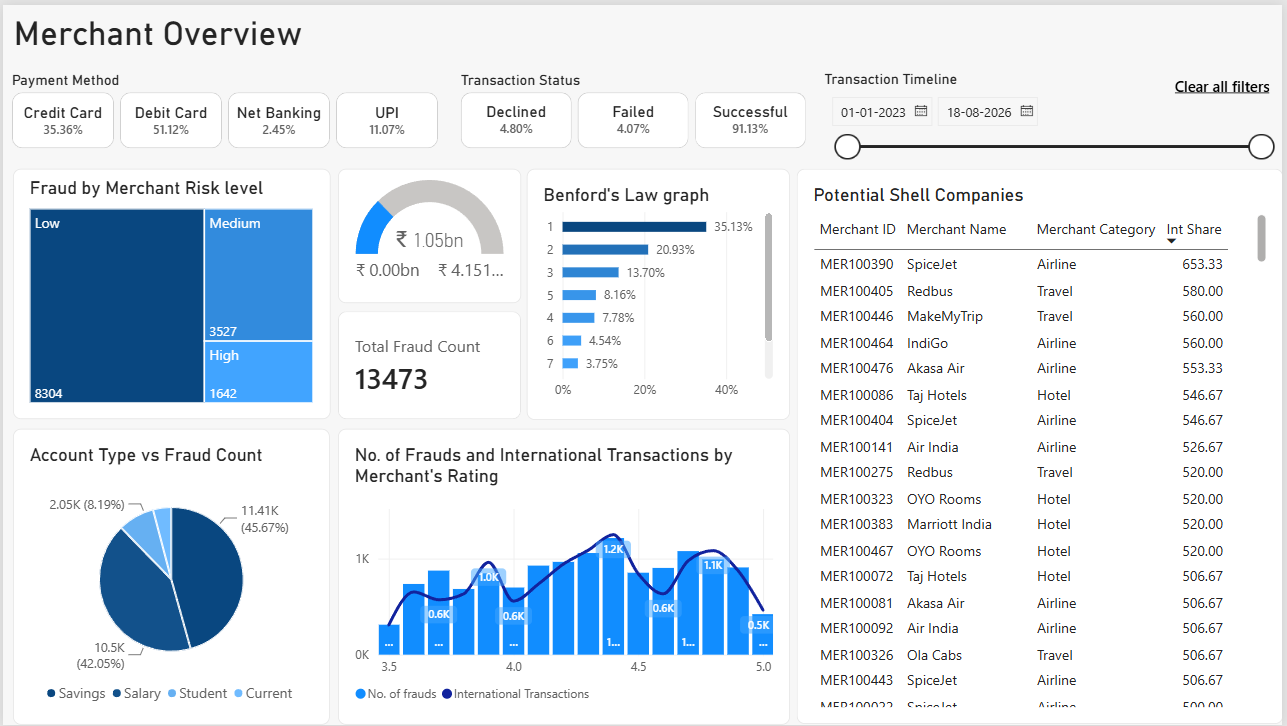

This screenshot's page, from the dashboard's own definition file:
{"tool":"powerbi","page":{"name":"Merchant","canvas":[1280,720],"ordinal":1},"visuals":[{"type":"textbox","box":[0,8.6,310.5,48.1],"z":0},{"type":"advancedSlicerVisual","title":"Payment Method","fields":{"Label":["Min(Transactions.Payment_Method)"],"Values":["Transactions.Payment_Method"]},"box":[4.9,62.8,436.2,85],"z":1000},{"type":"slicer","title":"Transaction Timeline","fields":{"Values":["Transactions.Transaction_Date"]},"box":[820.6,62.8,453.4,107.2],"z":2000},{"type":"actionButton","box":[1157,56.7,123.2,50.5],"z":3000},{"type":"advancedSlicerVisual","title":"Transaction Status","fields":{"Label":["Min(Transactions.Transaction_Status)"],"Values":["Transactions.Transaction_Status"]},"box":[453.4,62.8,354.9,85],"z":4000},{"type":"treemap","title":"Fraud by Merchant Risk level ","fields":{"Group":["merchant_table.Merchant_Risk_Level"],"Values":["Sum(Transactions.Fraud_Flag)"]},"box":[10,164.3,317.2,250.8],"z":5000},{"type":"tableEx","title":"Potential Shell Companies","fields":{"Values":["Transactions.Merchant_ID","merchant_table.Merchant_Name","Transactions.Merchant_Category","Transactions.International vs Average Share"]},"box":[793.7,164.3,486.5,555.5],"z":6000},{"type":"lineStackedColumnComboChart","title":"No. of Frauds and International Transactions by Merchant''s Rating","fields":{"Category":["merchant_table.Merchant_Rating"],"Y":["Sum(Transactions.Fraud_Flag)"],"Y2":["Sum(Transactions.Is_International)"]},"box":[335.2,423.9,452.2,295.7],"z":7000},{"type":"gauge","title":"Fraud vs Total Transaction Amount","fields":{"MaxValue":["Transactions.Total_Transaction_Amount"],"Y":["Transactions.Fraud Losses"]},"box":[335.2,163.9,183.6,134.3],"z":8000},{"type":"cardVisual","fields":{"Data":["Sum(Transactions.Fraud_Flag)"]},"box":[335.2,306.8,183.6,108.4],"z":9000},{"type":"clusteredBarChart","title":"Benford''s Law graph","fields":{"Category":["Transactions.Benford Law Check"],"Y":["CountNonNull(Transactions.Benford Law Check)"]},"box":[524.2,164.2,263.3,250.8],"z":10000},{"type":"pieChart","title":"Account Type vs Fraud Count","fields":{"Category":["Customer_data.Account_Type"],"Y":["CountNonNull(Customer_data.Account_Type)"]},"box":[10,424,317,296],"z":10001}]}

Visuals, with their boxes in screenshot pixels (x1, y1, x2, y2), scaled from the page's 1280x720 canvas onto the 1287x726 screenshot:
textbox: [x1=0, y1=9, x2=312, y2=57]
"Payment Method" advancedSlicerVisual: [x1=5, y1=63, x2=444, y2=149]
"Transaction Timeline" slicer: [x1=825, y1=63, x2=1281, y2=171]
actionButton: [x1=1163, y1=57, x2=1286, y2=108]
"Transaction Status" advancedSlicerVisual: [x1=456, y1=63, x2=813, y2=149]
"Fraud by Merchant Risk level " treemap: [x1=10, y1=166, x2=329, y2=419]
"Potential Shell Companies" tableEx: [x1=798, y1=166, x2=1286, y2=725]
"No. of Frauds and International Transactions by Merchant''s Rating" lineStackedColumnComboChart: [x1=337, y1=427, x2=792, y2=725]
"Fraud vs Total Transaction Amount" gauge: [x1=337, y1=165, x2=522, y2=301]
cardVisual - Sum(Transactions.Fraud_Flag): [x1=337, y1=309, x2=522, y2=419]
"Benford''s Law graph" clusteredBarChart: [x1=527, y1=166, x2=792, y2=418]
"Account Type vs Fraud Count" pieChart: [x1=10, y1=428, x2=329, y2=725]
